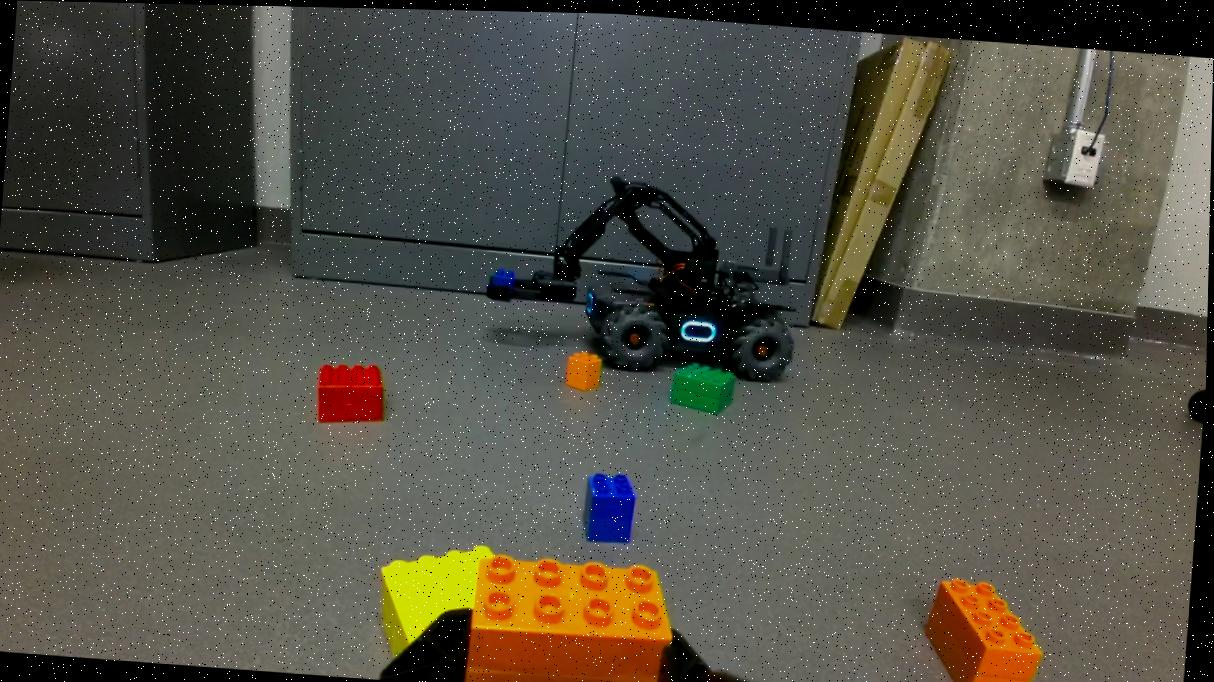2x2lego: (582, 468, 642, 543), (567, 346, 607, 389)
2x4lego: (469, 550, 681, 682), (923, 572, 1050, 682)
4x4lego: (314, 355, 391, 426), (671, 358, 739, 411)
